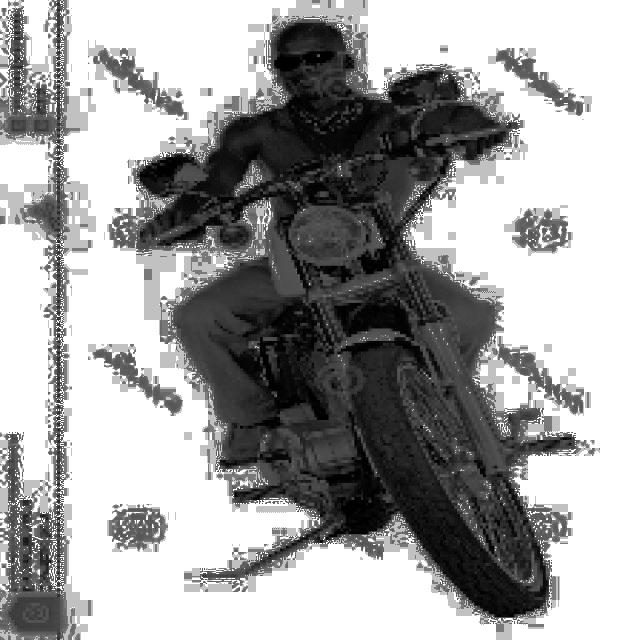Bike: (220, 172, 564, 615)
